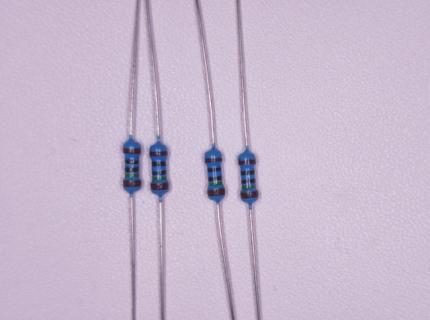Black band: (241, 170, 255, 176), (152, 161, 166, 167), (208, 167, 221, 173), (242, 179, 256, 184), (125, 167, 139, 172), (152, 170, 166, 175), (126, 159, 139, 164), (208, 177, 221, 181)
Brown band: (151, 182, 168, 190), (208, 188, 225, 196), (241, 191, 258, 199), (122, 180, 141, 187), (123, 148, 141, 154), (150, 151, 167, 157), (239, 159, 256, 165), (205, 158, 222, 162)
Green band: (125, 173, 139, 178), (242, 185, 255, 190), (208, 182, 222, 186), (153, 177, 166, 181)
